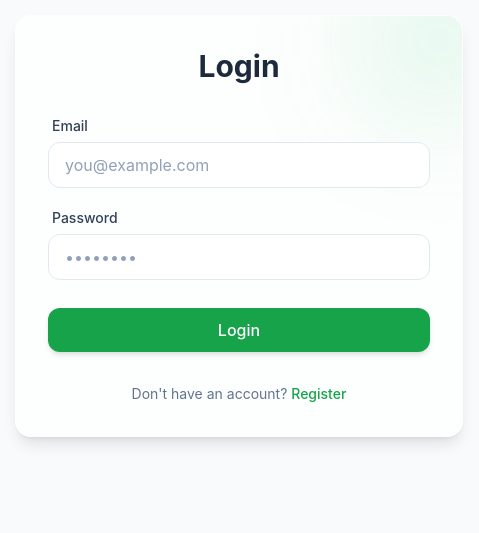
Test: Login page › slow request (cold start) feedback › does not show the cold-start hint when the server answers quickly
Step 1. Type "ada@example.com" into the field with placeholder "you@example.com" → (239, 165), box [48,142,430,188]
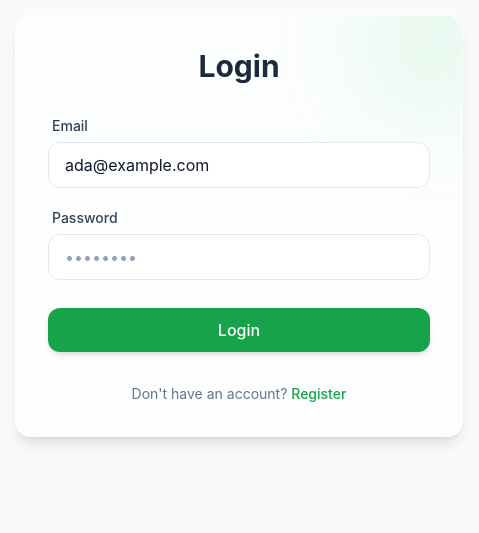
Step 2. Type "secret123" into the password field with placeholder "••••••••" → (239, 257), box [48,234,430,280]
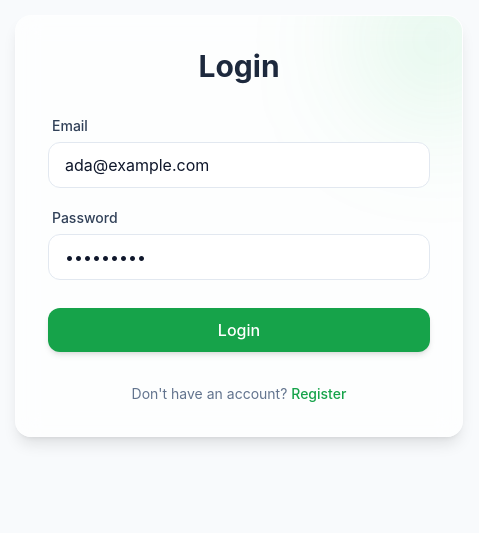
Step 3. Click the button "Login" → (239, 330), box [48,308,430,352]
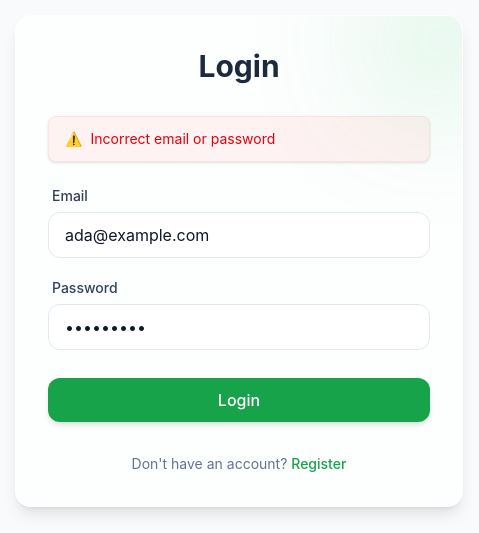
Check: the text "⚠️ Incorrect email or password" is shown, box [48,116,430,162]
